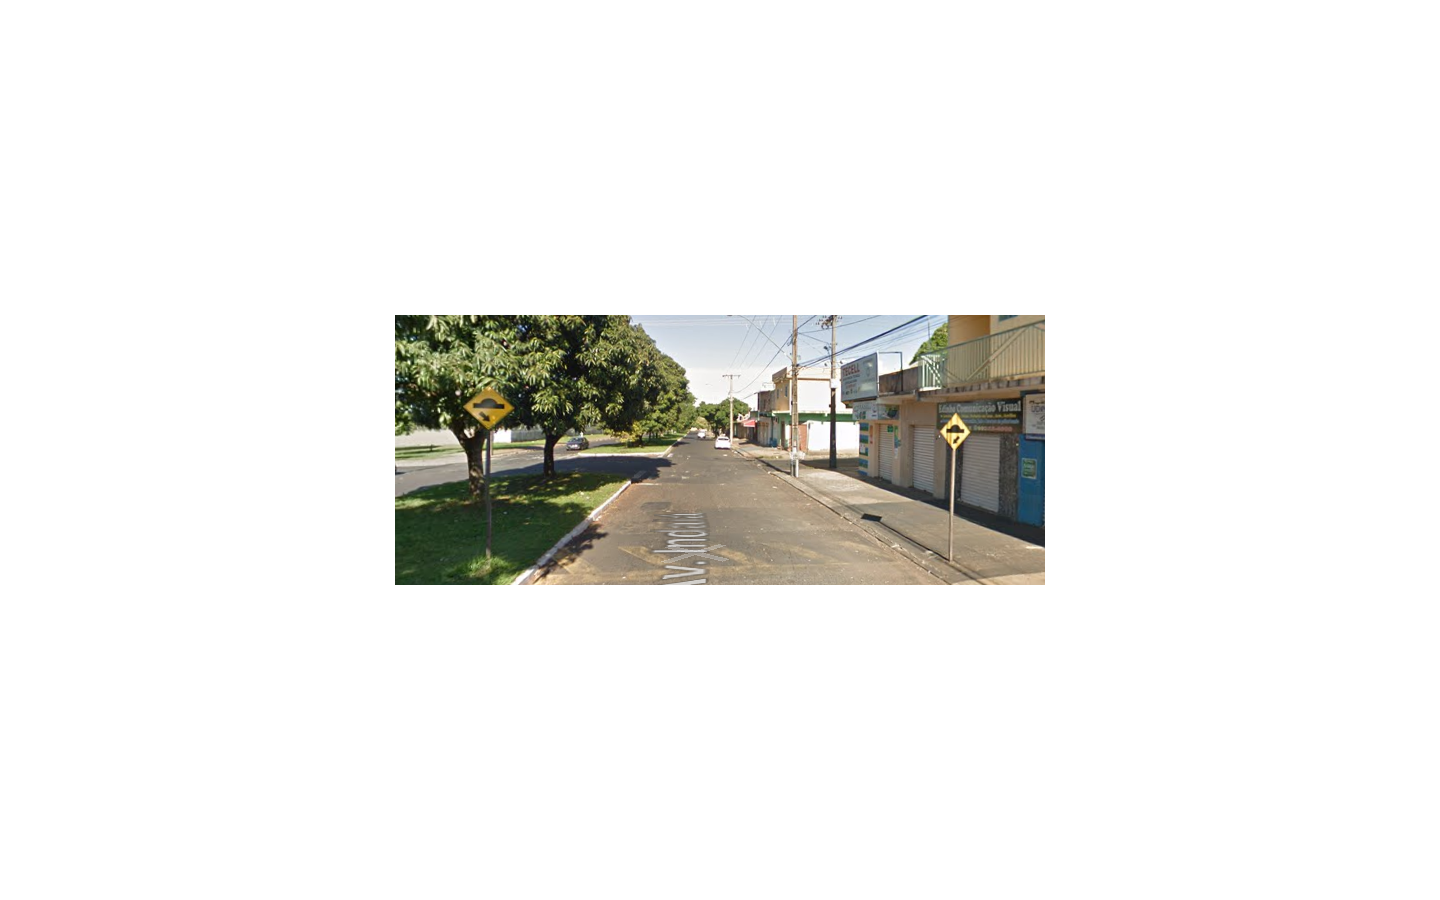lomb: (463, 385, 513, 430), (940, 412, 970, 450)
